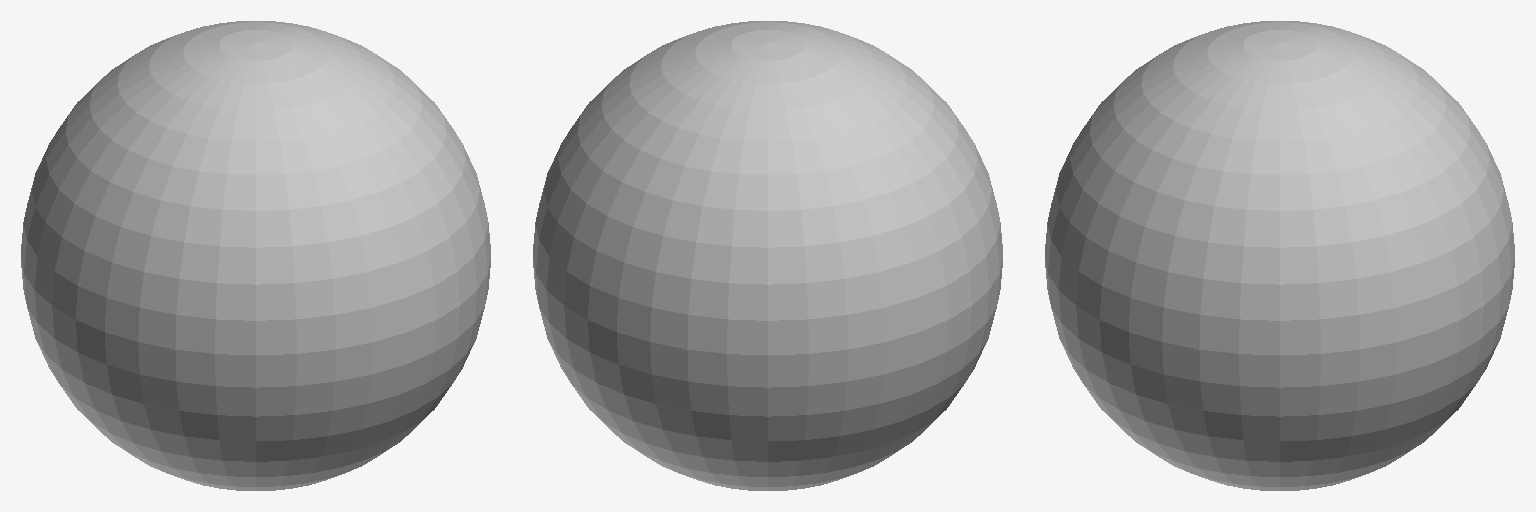
File: orange.obj
3 renders of one model, left to right at view 1: azimuth 30°, elevation 25°; view 2: azimuth 150°, elevation 25°; view 3: azimuth 270°, elevation 25°, orthographic.
Parts seen in each view (by area): view 1: Sphere; view 2: Sphere; view 3: Sphere.
Part boxes in pixels (left/top/right/bottom): Sphere: left=21, top=21, right=490, bottom=490; Sphere: left=533, top=21, right=1002, bottom=490; Sphere: left=1045, top=21, right=1514, bottom=490.
Size of the model in its own units: 2 by 2 by 2.